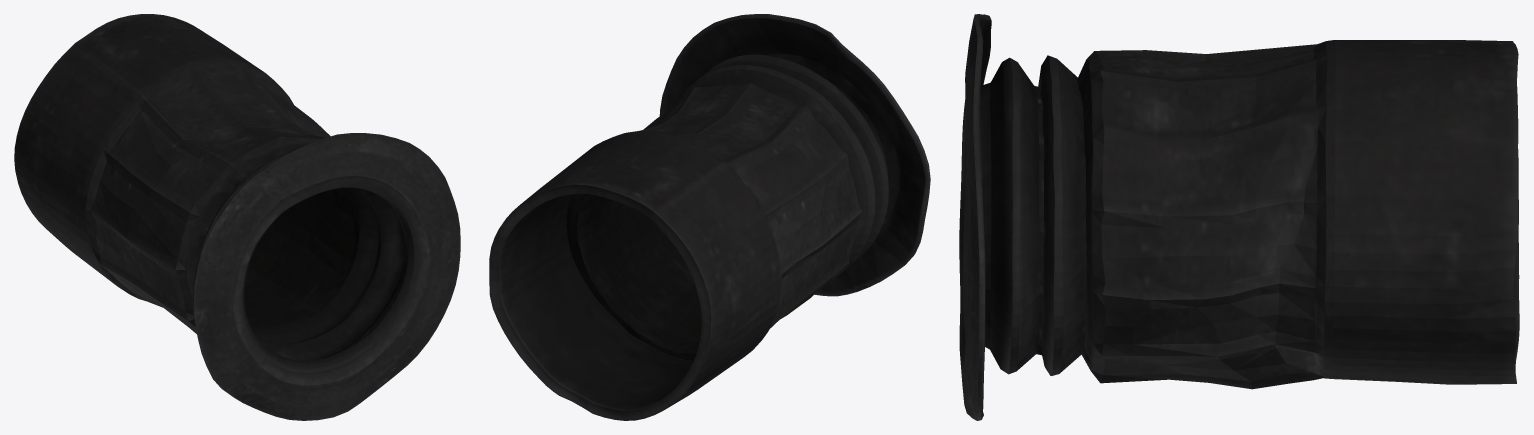
3 views of the same model, side by side, from view 1: azimuth 30°, elevation 25°; view 2: azimuth 150°, elevation 25°; view 3: azimuth 270°, elevation 25° (orthographic). The views are drawn at different scales.
Parts seen in each view (by area): view 1: TW_57f3a5ae2459772b0e0bf19e_PZ_Import; view 2: TW_57f3a5ae2459772b0e0bf19e_PZ_Import; view 3: TW_57f3a5ae2459772b0e0bf19e_PZ_Import.
Part boxes in pixels (x1=…): TW_57f3a5ae2459772b0e0bf19e_PZ_Import: x1=14, y1=14, x2=460, y2=420; TW_57f3a5ae2459772b0e0bf19e_PZ_Import: x1=489, y1=14, x2=930, y2=420; TW_57f3a5ae2459772b0e0bf19e_PZ_Import: x1=959, y1=14, x2=1519, y2=420.
Bounding box in the file's own units: 0.0289 × 0.0384 × 0.0284.
1 material, 1 textured.
